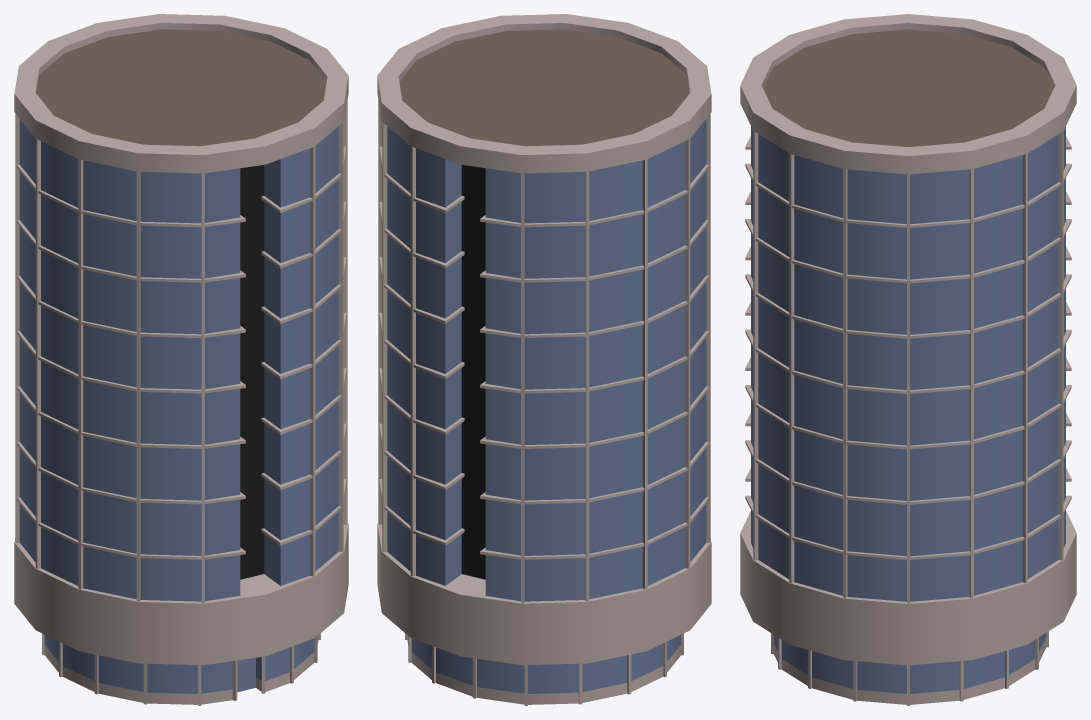
File: LargeBuilding_06.fbx
The picture shows the model from 3 angles, left to right: view 1: azimuth 30°, elevation 25°; view 2: azimuth 150°, elevation 25°; view 3: azimuth 270°, elevation 25°; orthographic projection.
Parts seen in each view (by area): view 1: LargeBuilding_06; view 2: LargeBuilding_06; view 3: LargeBuilding_06.
Boxes of the visible parts, x1=… form: LargeBuilding_06: x1=14, y1=14, x2=348, y2=705; LargeBuilding_06: x1=377, y1=14, x2=711, y2=705; LargeBuilding_06: x1=740, y1=14, x2=1076, y2=705.
Size of the model in its own units: 18.52 by 34.11 by 18.52.
